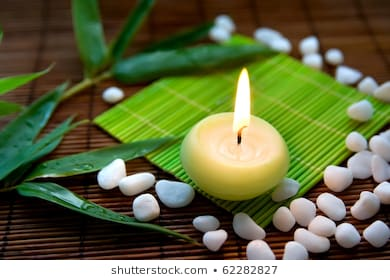Fire: (232, 66, 255, 135)
